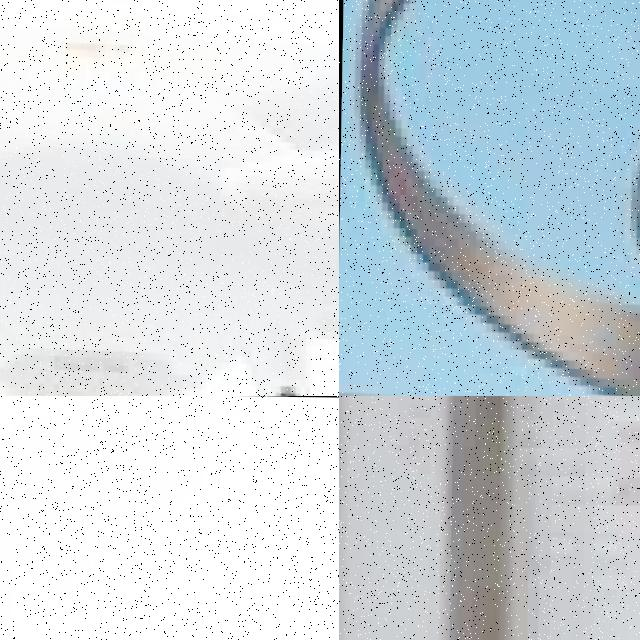drone: (0, 0, 339, 396), (339, 0, 640, 396)
